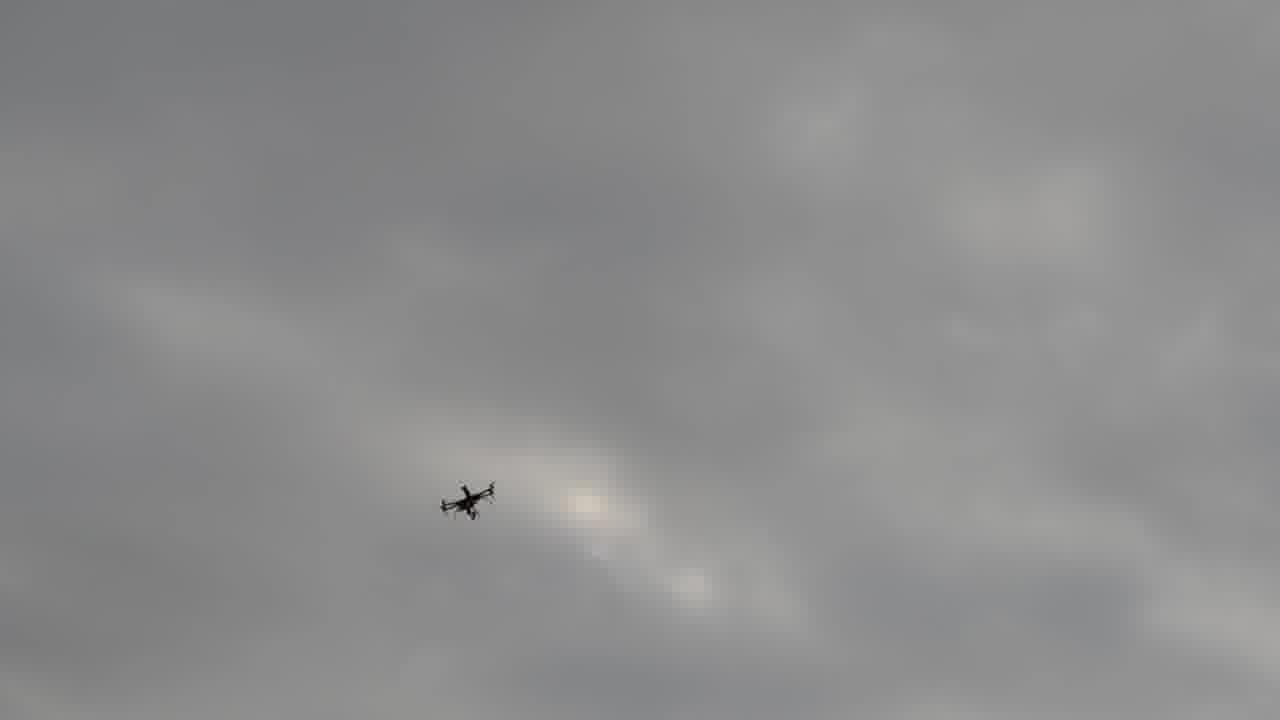drone: (424, 473, 503, 529)
